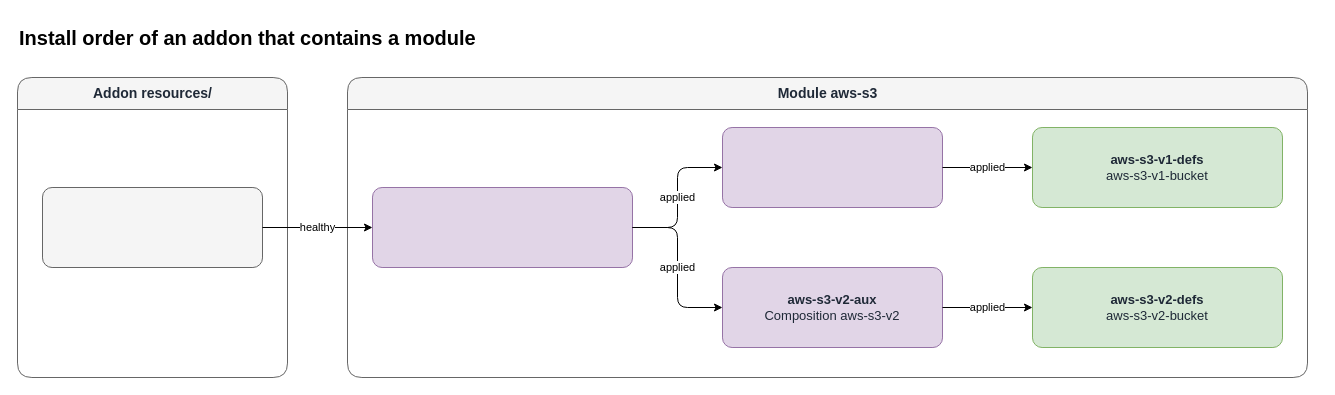
This 1335x395 diagram has some shape labels left out. The centre of each missing label's shape, as x and y in pixels:
aws-s3-aux Provider, Functions, XRD, EnvironmentConfig: pixel 502 227
aws-s3-v1-aux Composition aws-s3-v1: pixel 832 167
Crossplane the operator: pixel 152 227
